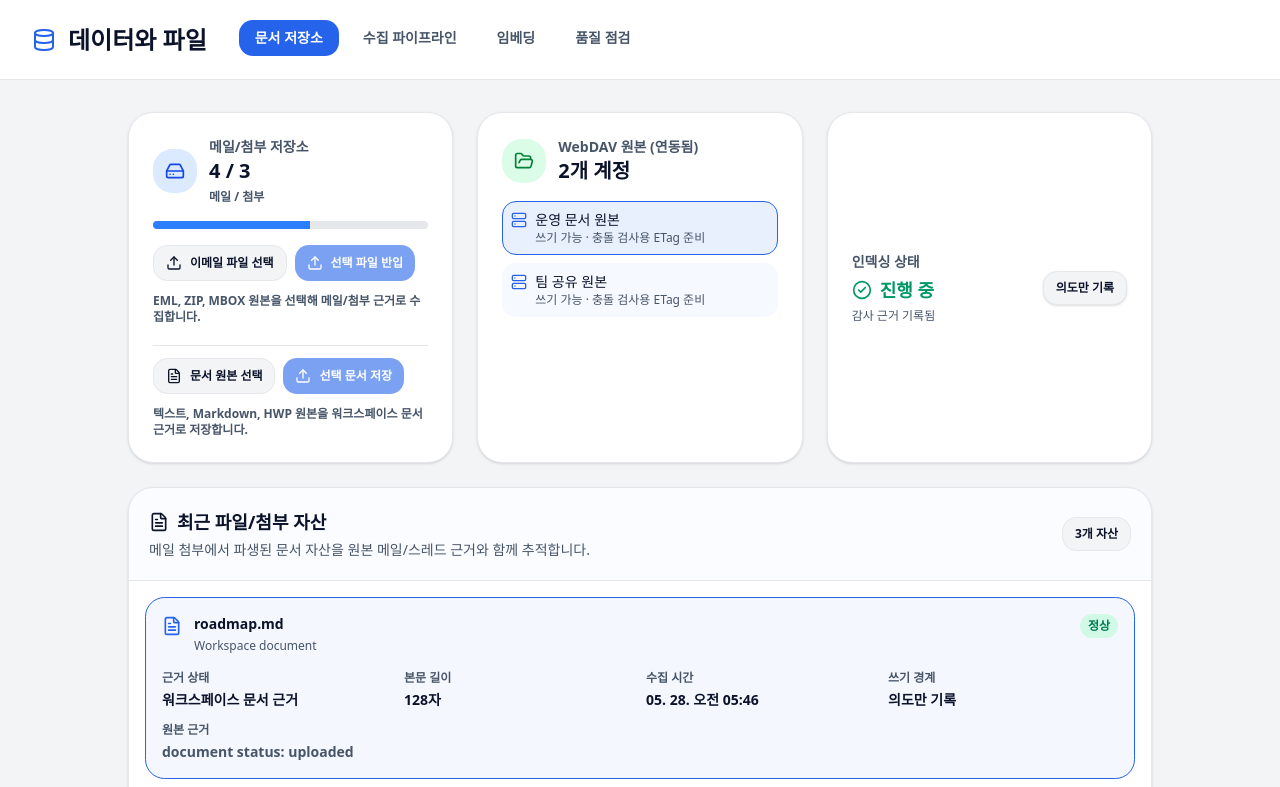
Test: DataPage › renders API-backed pipeline embedding and quality tabs
Click the button "수집 파이프라인" at (410, 38), box [347, 20, 473, 56]
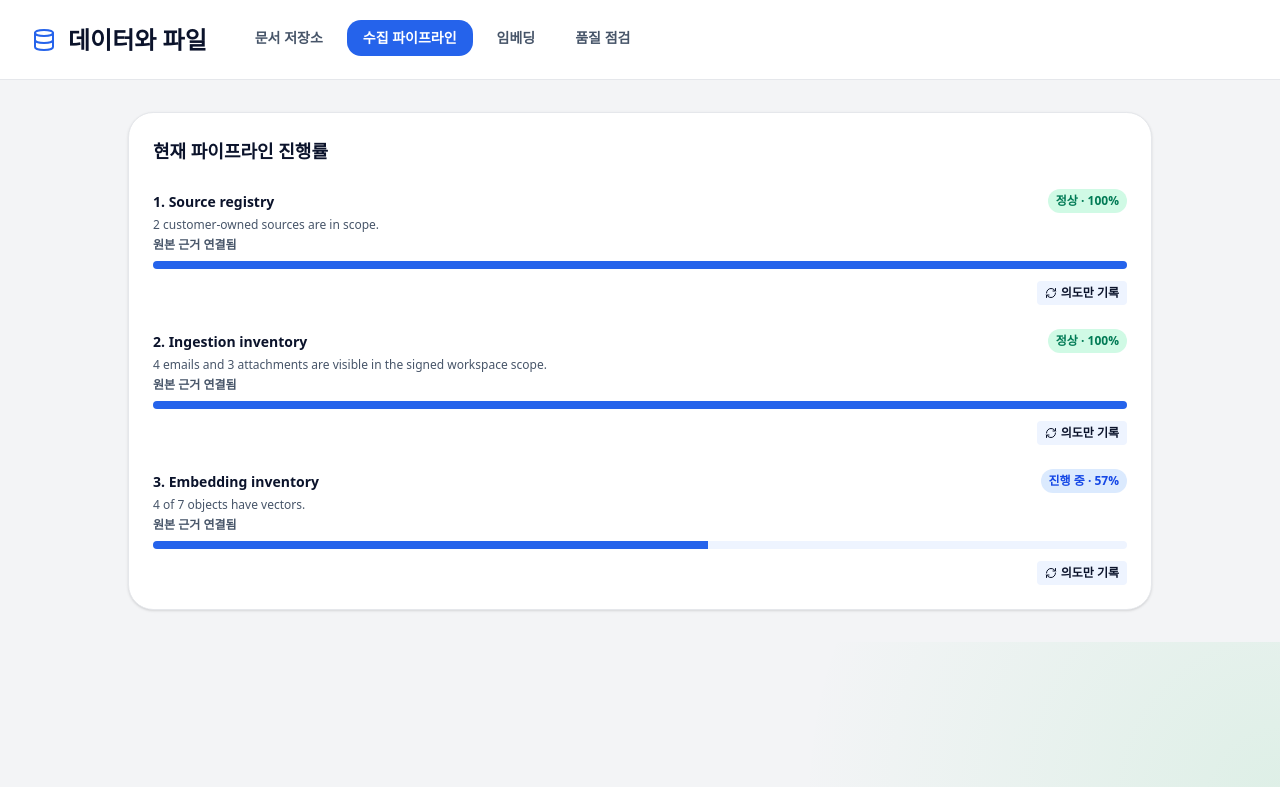
Result: the text "4 emails and 3 attachments" is shown at [153, 356, 547, 373]
Result: the text "원본 근거 연결됨" is shown at [153, 236, 236, 253]
Click the button "임베딩" at (516, 38), box [481, 20, 551, 56]
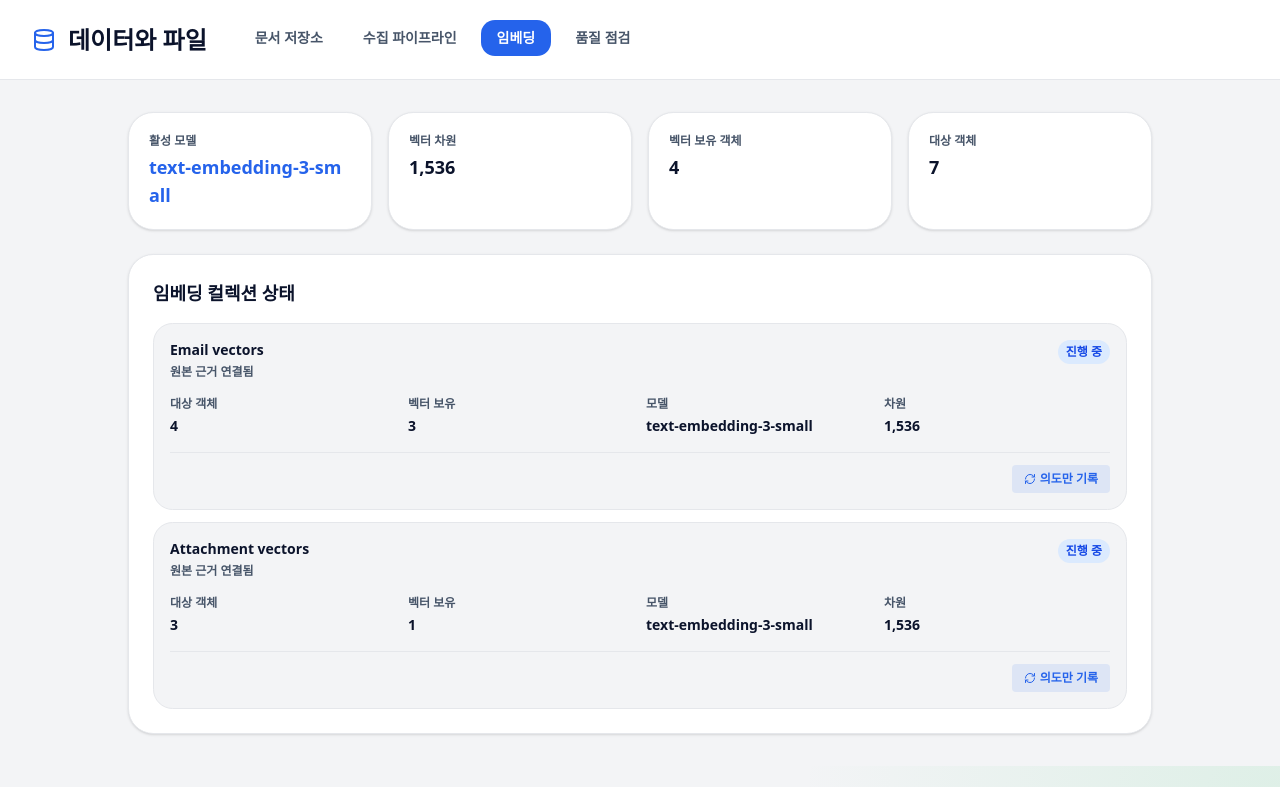
Result: the text "text-embedding-3-small" is shown at [149, 153, 351, 209]
Result: the text "1,536" is shown at [409, 155, 455, 179]
Result: the text "Email vectors" is shown at [170, 340, 264, 360]
Click the button "품질 점검" at (603, 38), box [559, 20, 646, 56]
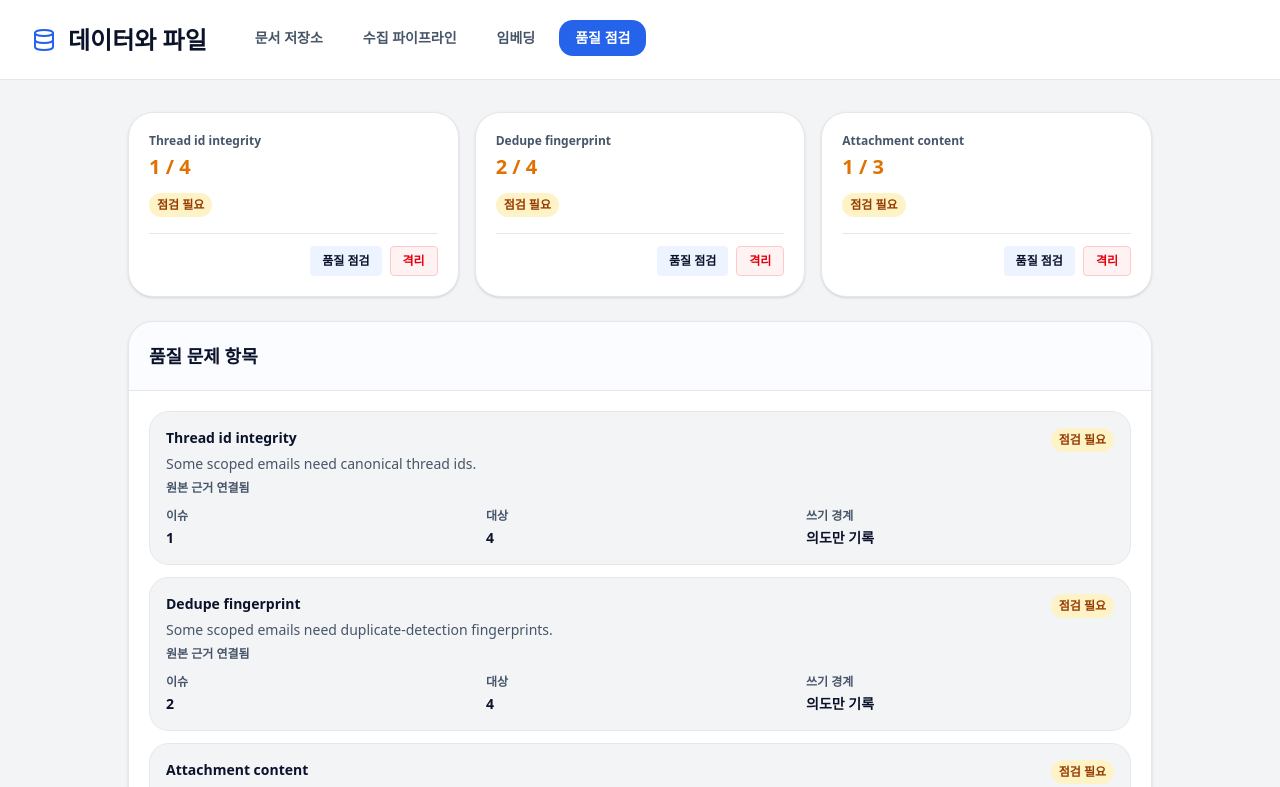
Expected: the text "의도만 기록" is shown, [806, 528, 874, 547]
Result: the text "Thread id integrity" is shown at [149, 132, 261, 149]
Result: the text "Some scoped emails need canonical thread ids." is shown at [166, 452, 476, 476]
